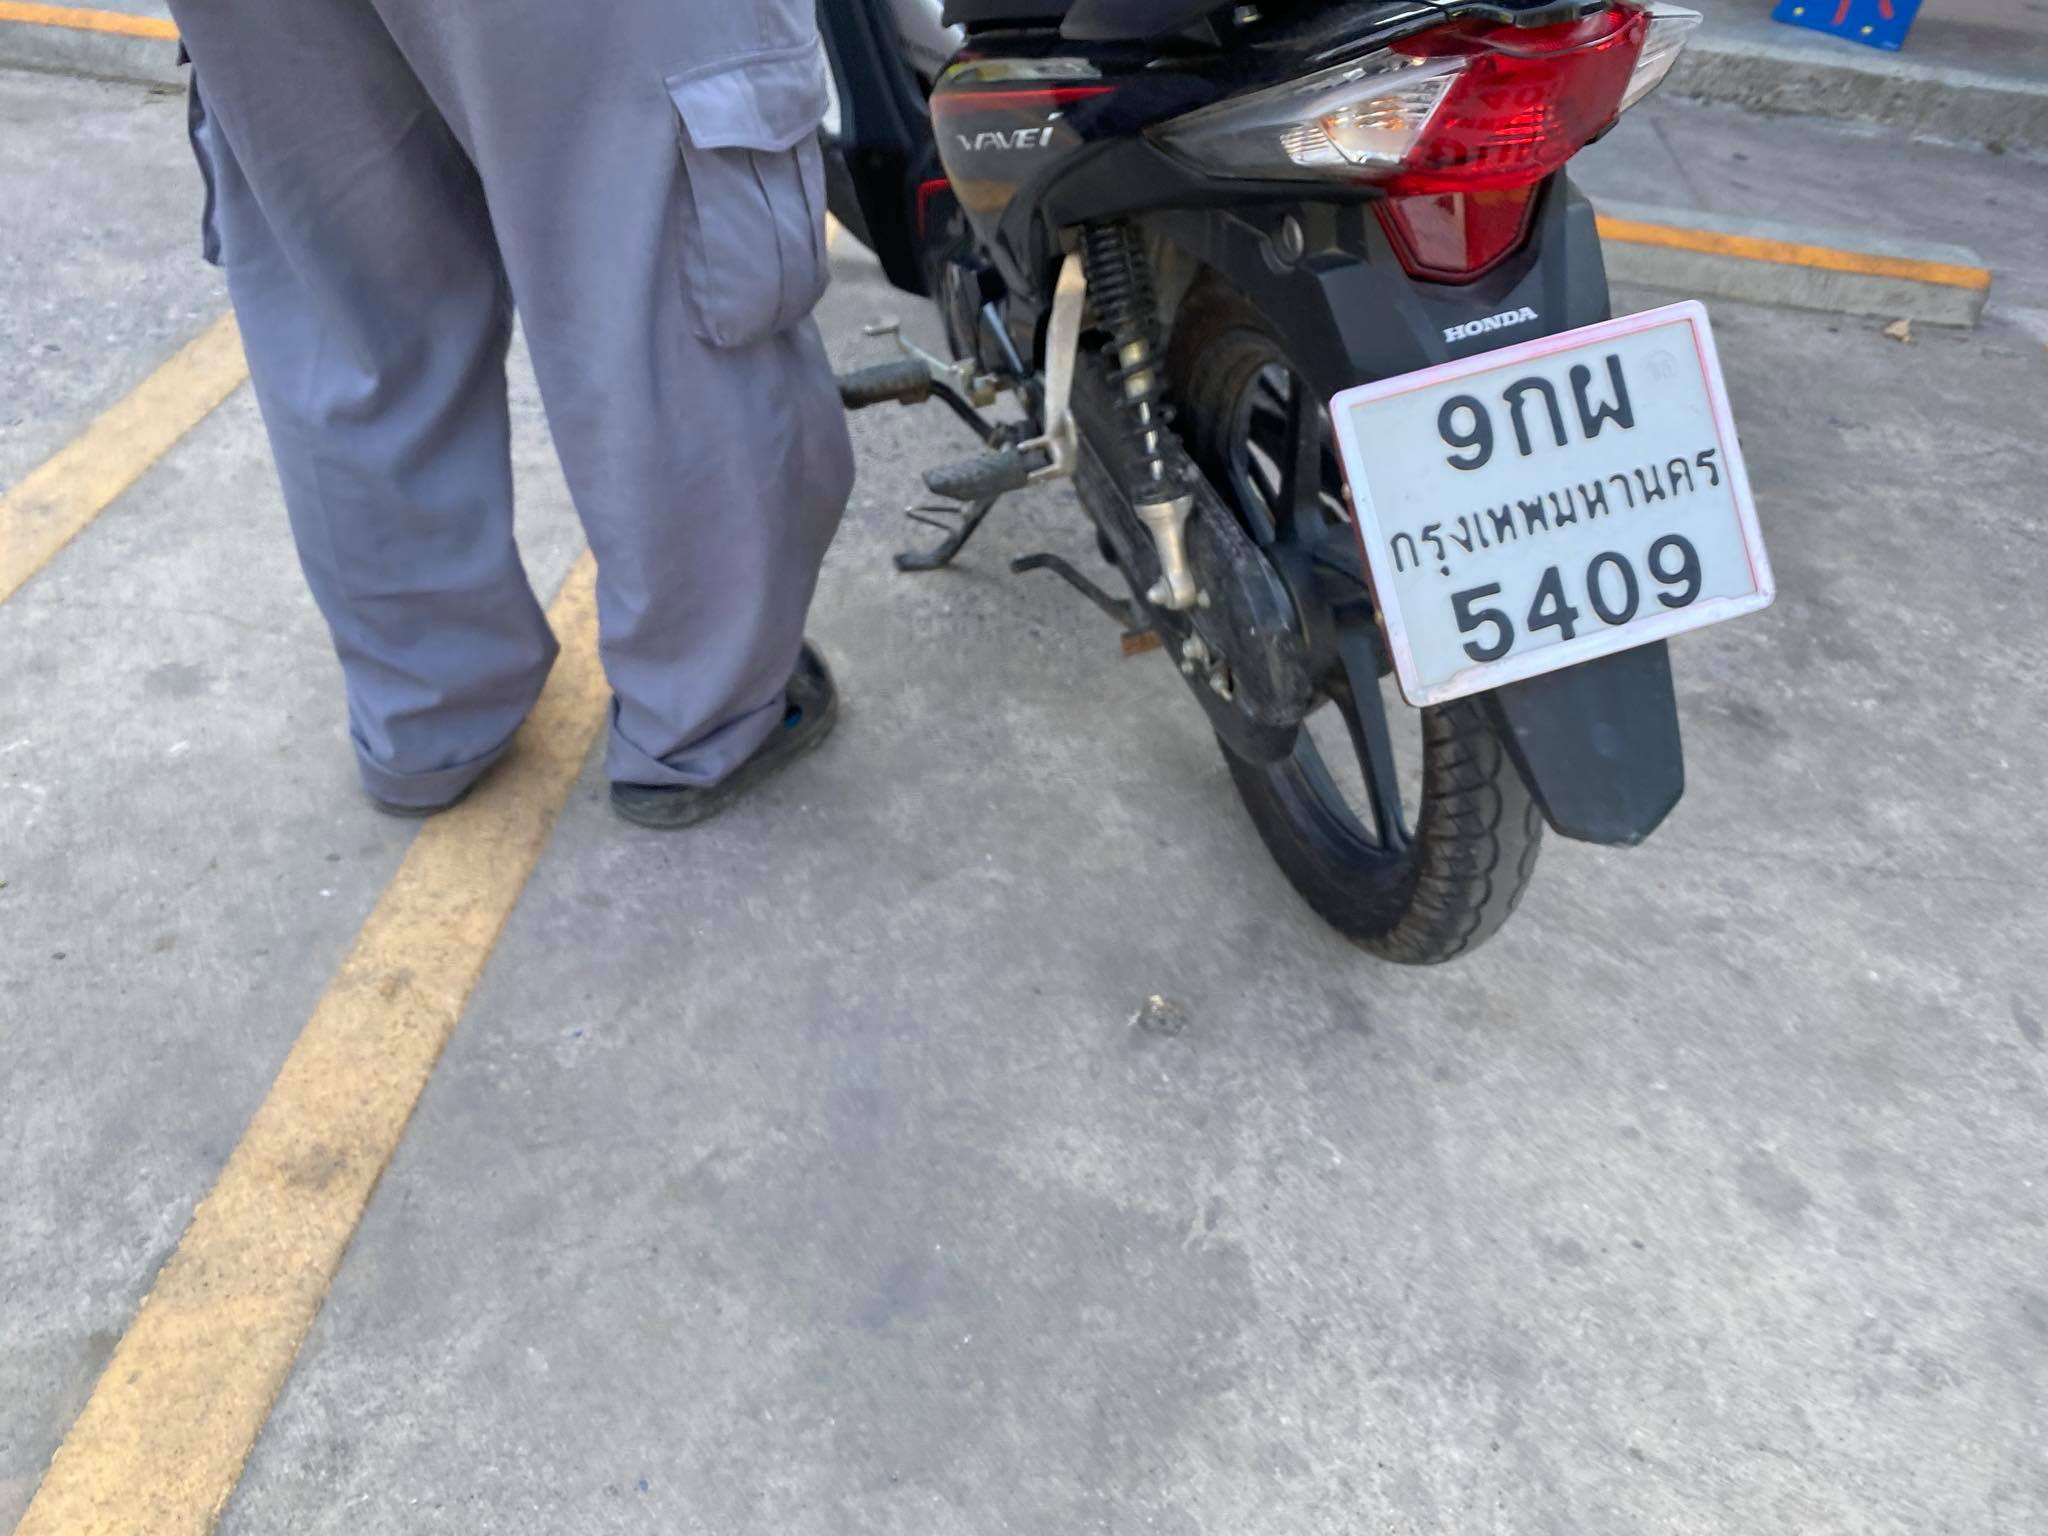line1: (1429, 345, 1634, 479)
line2: (1390, 452, 1732, 578)
line3: (1448, 537, 1700, 665)
